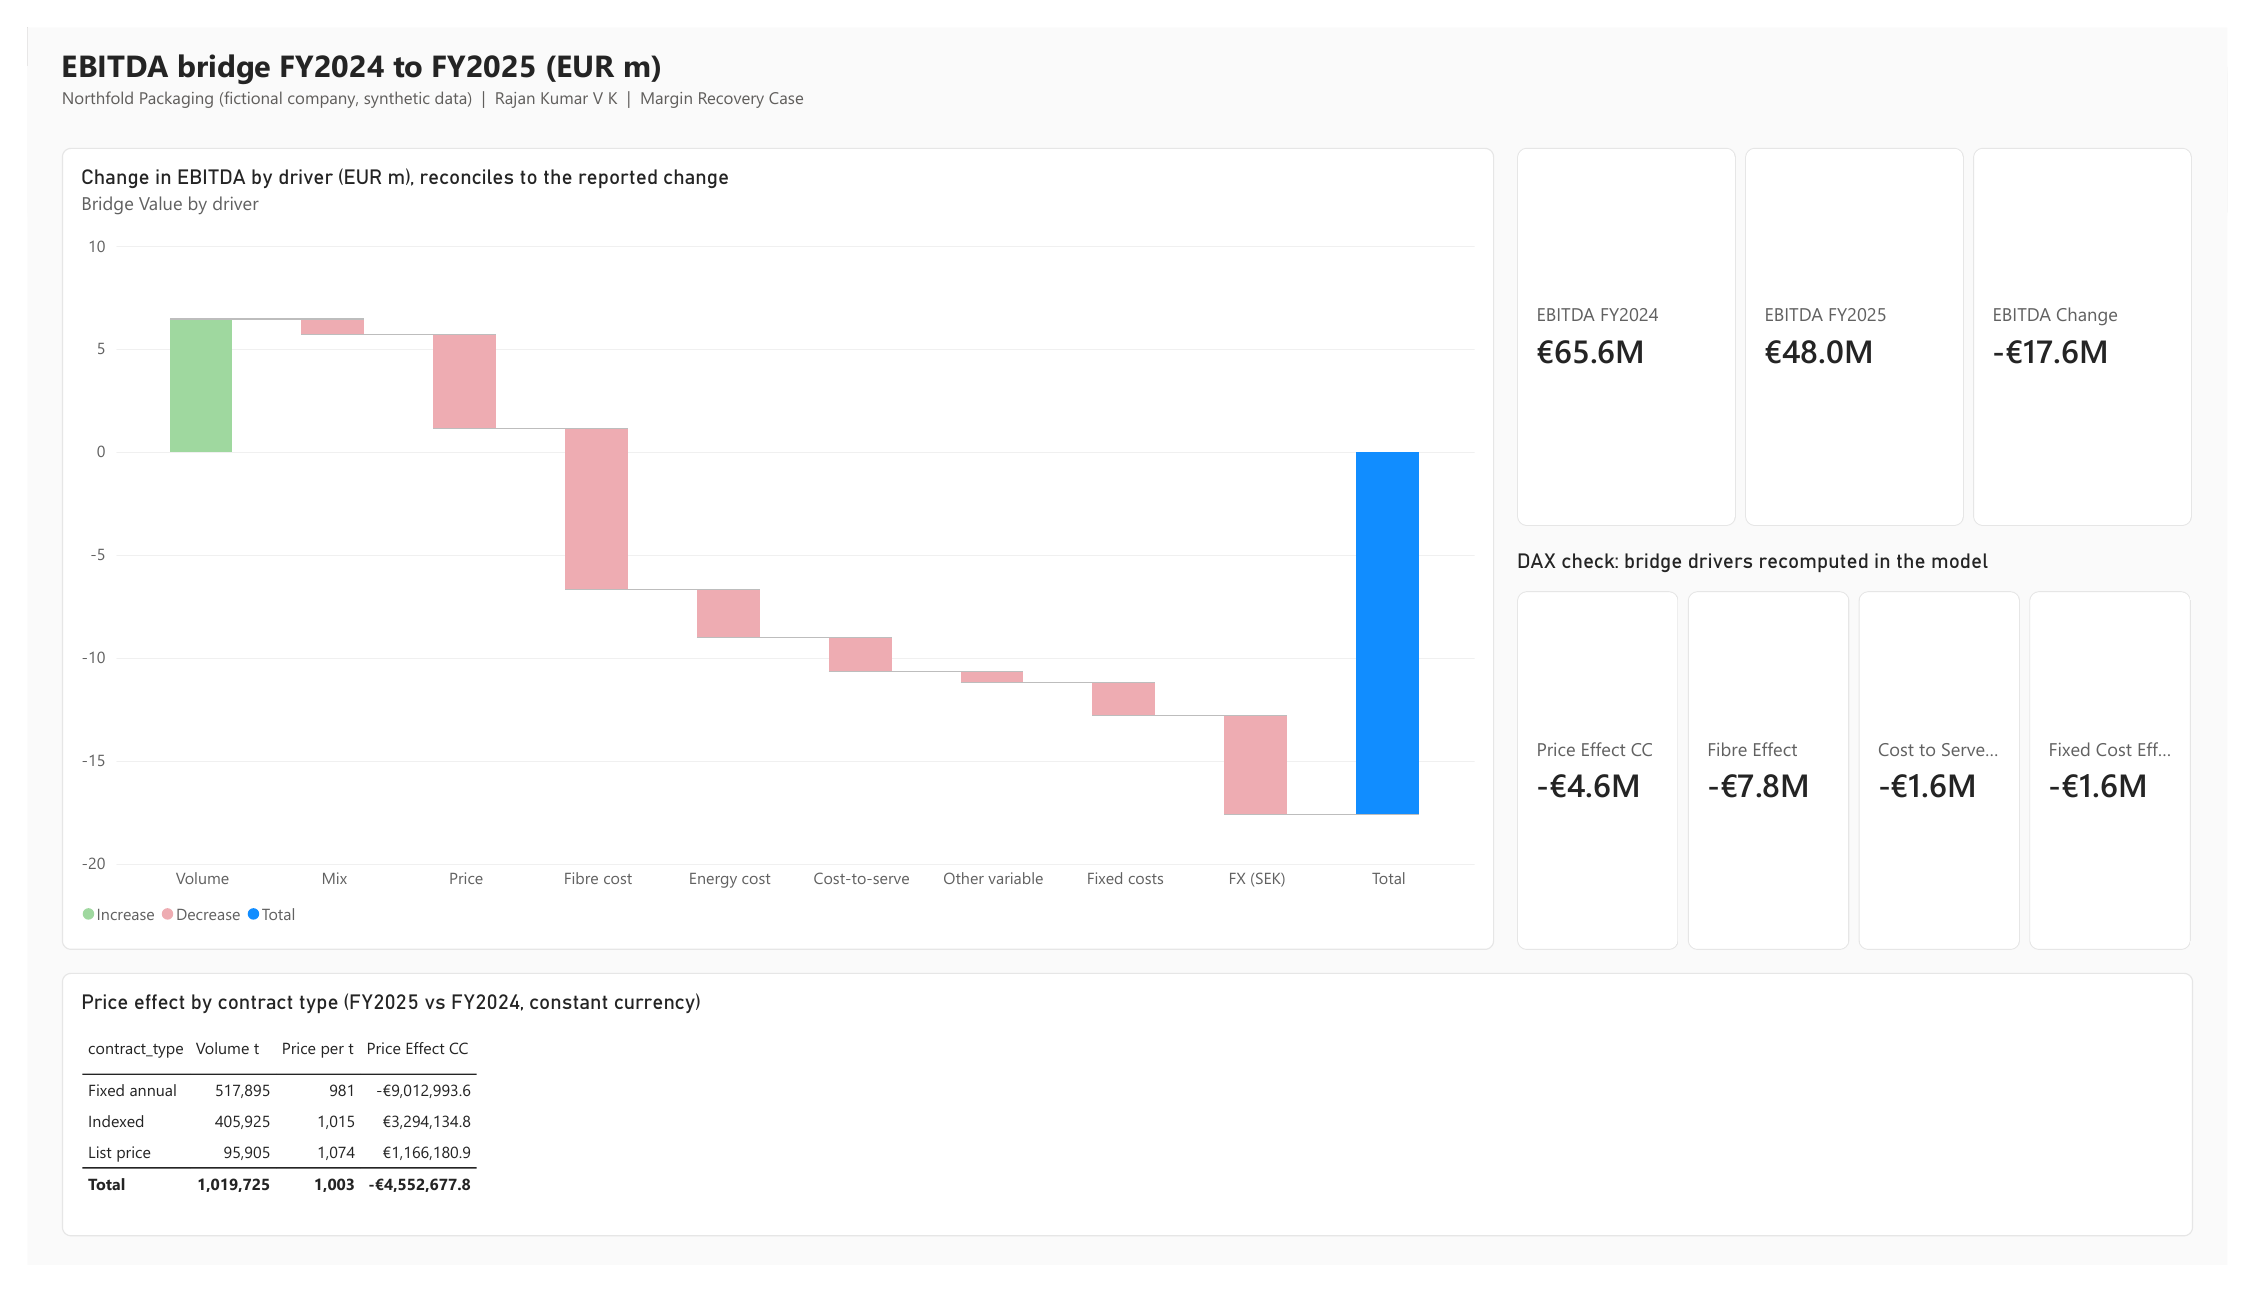

This screenshot's page, from the dashboard's own definition file:
{"tool":"powerbi","page":{"name":"2 EBITDA bridge","canvas":[1920,1080],"ordinal":1},"visuals":[{"type":"textbox","box":[30,15,1860,80],"z":0},{"type":"waterfallChart","title":"Change in EBITDA by driver (EUR m), reconciles to the reported change","fields":{"Category":["bridge.driver"],"Y":["_Measures.Bridge Value"]},"box":[30,105,1250,700],"z":1},{"type":"cardVisual","fields":{"Data":["_Measures.EBITDA FY2024","_Measures.EBITDA FY2025","_Measures.EBITDA Change"]},"box":[1300,105,590,330],"z":2},{"type":"cardVisual","title":"DAX check: bridge drivers recomputed in the model","fields":{"Data":["_Measures.Price Effect CC","_Measures.Fibre Effect","_Measures.Cost to Serve Effect CC","_Measures.Fixed Cost Effect CC"]},"box":[1300,455,590,350],"z":3},{"type":"tableEx","title":"Price effect by contract type (FY2025 vs FY2024, constant currency)","fields":{"Values":["dim_customer.contract_type","_Measures.Volume t","_Measures.Price per t","_Measures.Price Effect CC"]},"box":[30,825,1860,230],"z":4}]}

Visuals, with their boxes in screenshot pixels (x1, y1, x2, y2), scaled from the page's 1920x1080 canvas onto the 2255x1293 screenshot:
textbox: l=35, t=18, r=2220, b=114
"Change in EBITDA by driver (EUR m), reconciles to the reported change" waterfallChart: l=35, t=126, r=1503, b=964
cardVisual - _Measures.EBITDA FY2024 x _Measures.EBITDA FY2025: l=1527, t=126, r=2220, b=521
"DAX check: bridge drivers recomputed in the model" cardVisual: l=1527, t=545, r=2220, b=964
"Price effect by contract type (FY2025 vs FY2024, constant currency)" tableEx: l=35, t=988, r=2220, b=1263
